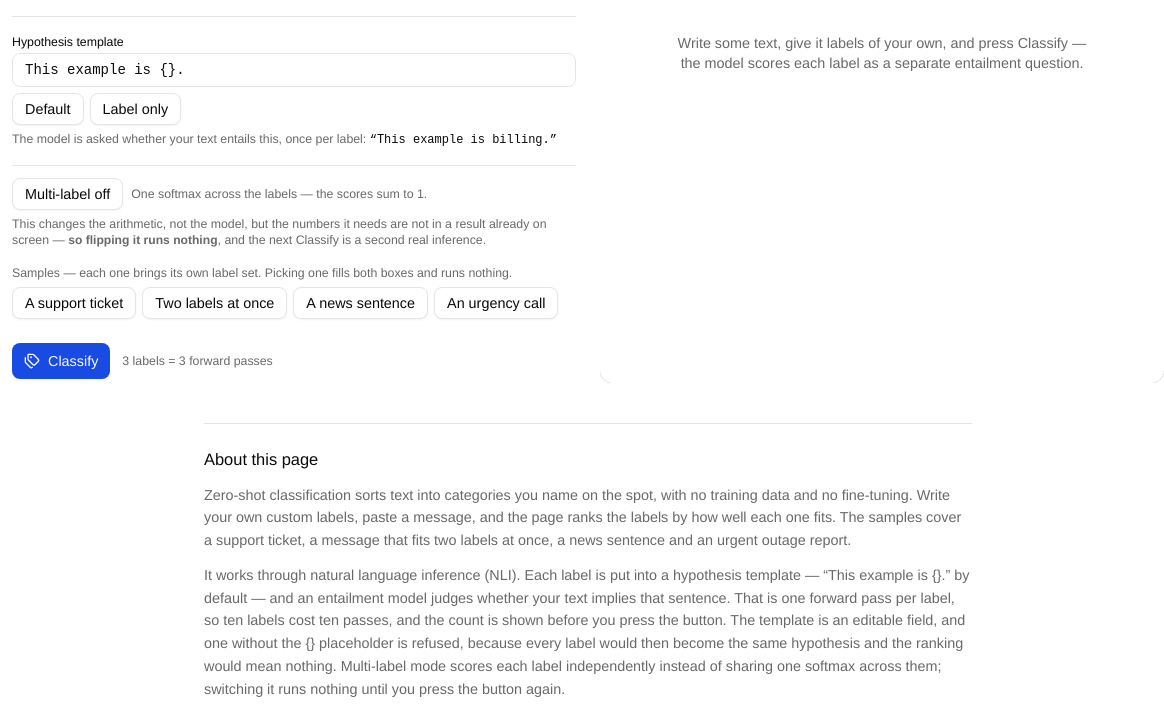
ZeroShotClassificationPage › renders every label with its score
The image size is (1164, 707).
(page scrolled)
Click the button "Classify": [61, 360] box [12,342,110,378]
(page scrolled)
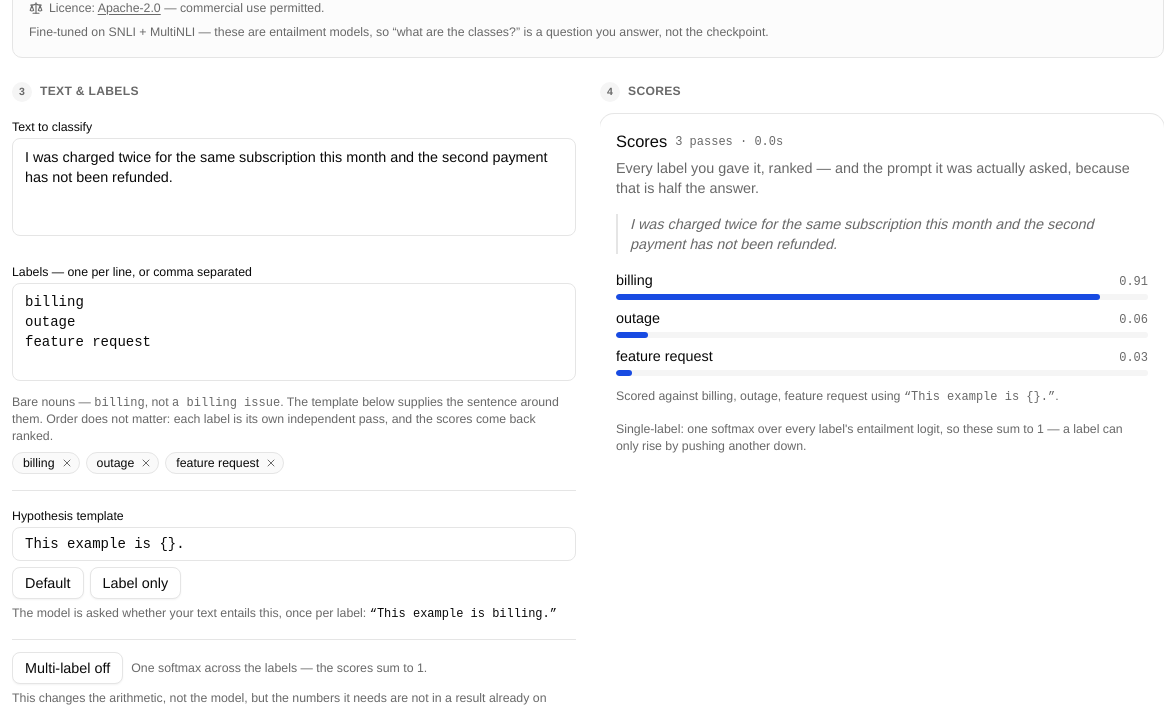
Now the element with test id "score-list" is shown, box [616,270,1148,405]
Now the number of list items is 3, box [616,270,1148,300]; [616,308,1148,338]; [616,346,1148,376]
Now the list item "billing 0.91" is shown, box [616,270,1148,300]
